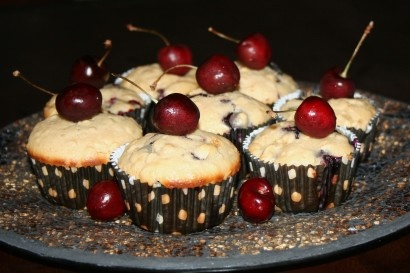background: (7, 9, 244, 100)
